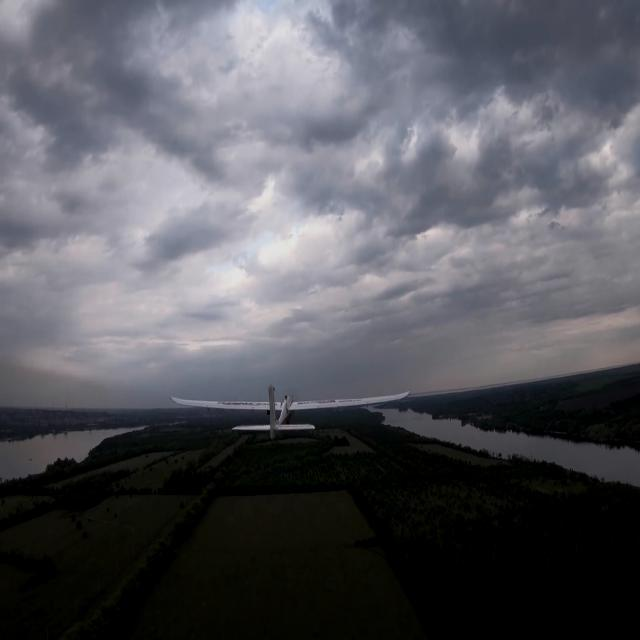iha: (163, 383, 413, 445)
